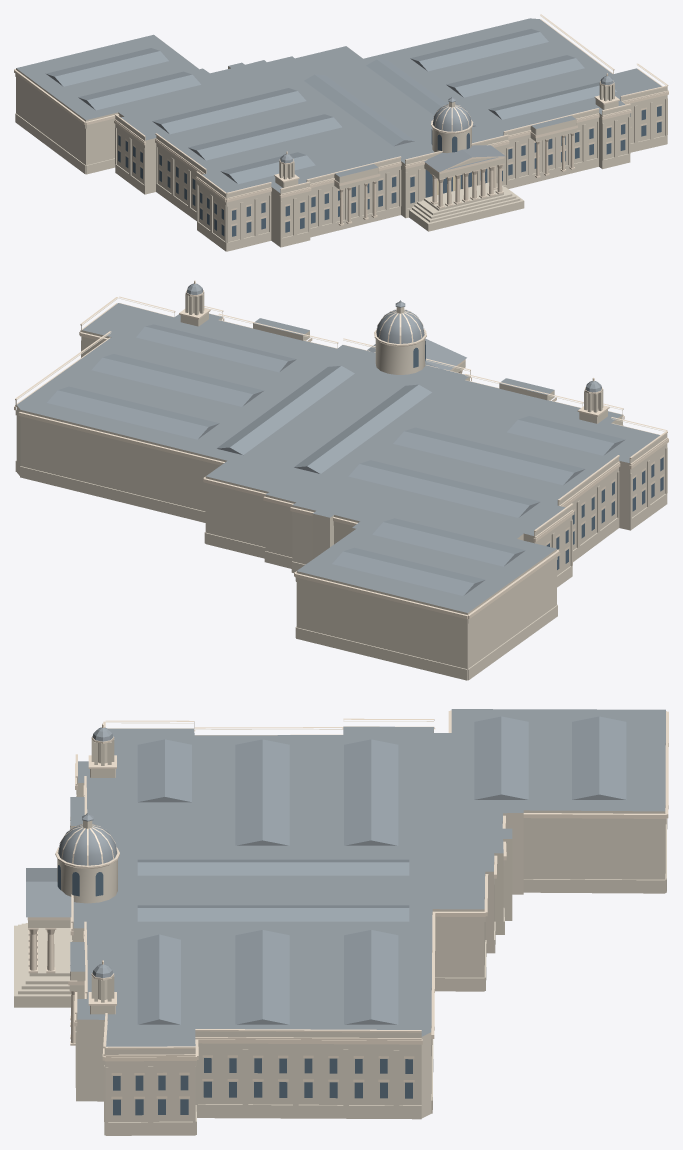
The model's file is london-national-gallery.glb.
The picture shows the model from 3 angles, top to bottom: view 1: azimuth 30°, elevation 25°; view 2: azimuth 150°, elevation 25°; view 3: azimuth 270°, elevation 25°; orthographic projection. The views are drawn at different scales.
Parts seen in each view (by area): view 1: National Gallery; view 2: National Gallery; view 3: National Gallery.
Part boxes in pixels (box(x1,y1,x2,y2)): National Gallery: box(14, 14, 668, 251); National Gallery: box(14, 280, 668, 680); National Gallery: box(14, 709, 668, 1135).
Bounding box in the file's own units: 151 × 32.4 × 121.
